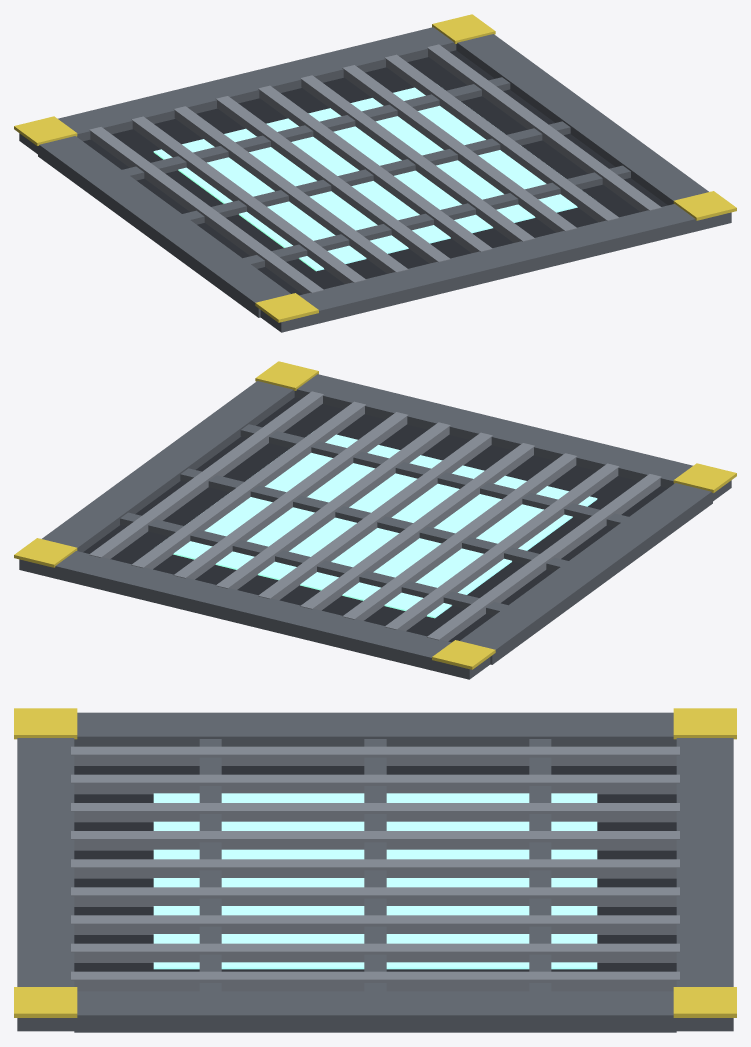
File: prop_vent_floor_grate.glb
3 renders of one model, top to bottom at view 1: azimuth 30°, elevation 25°; view 2: azimuth 150°, elevation 25°; view 3: azimuth 270°, elevation 25°, orthographic. The views are drawn at different scales.
Parts seen in each view (by area): view 1: PropVentFloorGrate; view 2: PropVentFloorGrate; view 3: PropVentFloorGrate.
Part boxes in pixels (left/top/right/bottom): PropVentFloorGrate: left=14, top=14, right=736, bottom=332; PropVentFloorGrate: left=14, top=361, right=736, bottom=679; PropVentFloorGrate: left=14, top=708, right=736, bottom=1032.
Bounding box in the file's own units: 2.28 × 0.0705 × 2.28.
